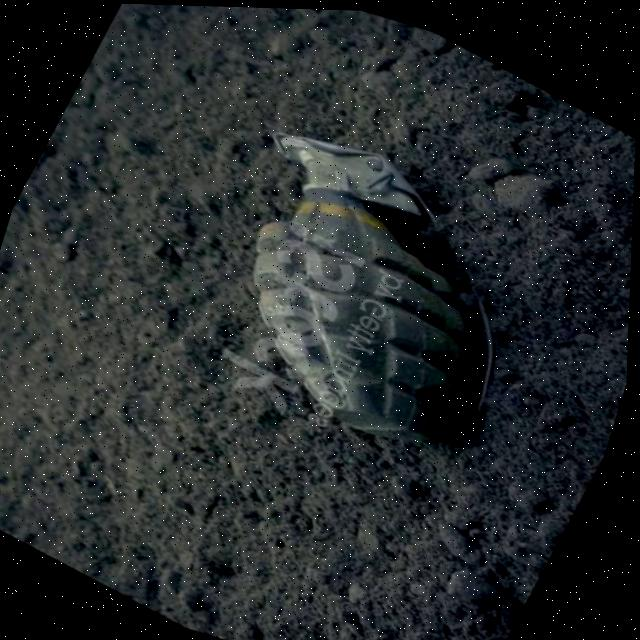grenade: (165, 95, 570, 479)
